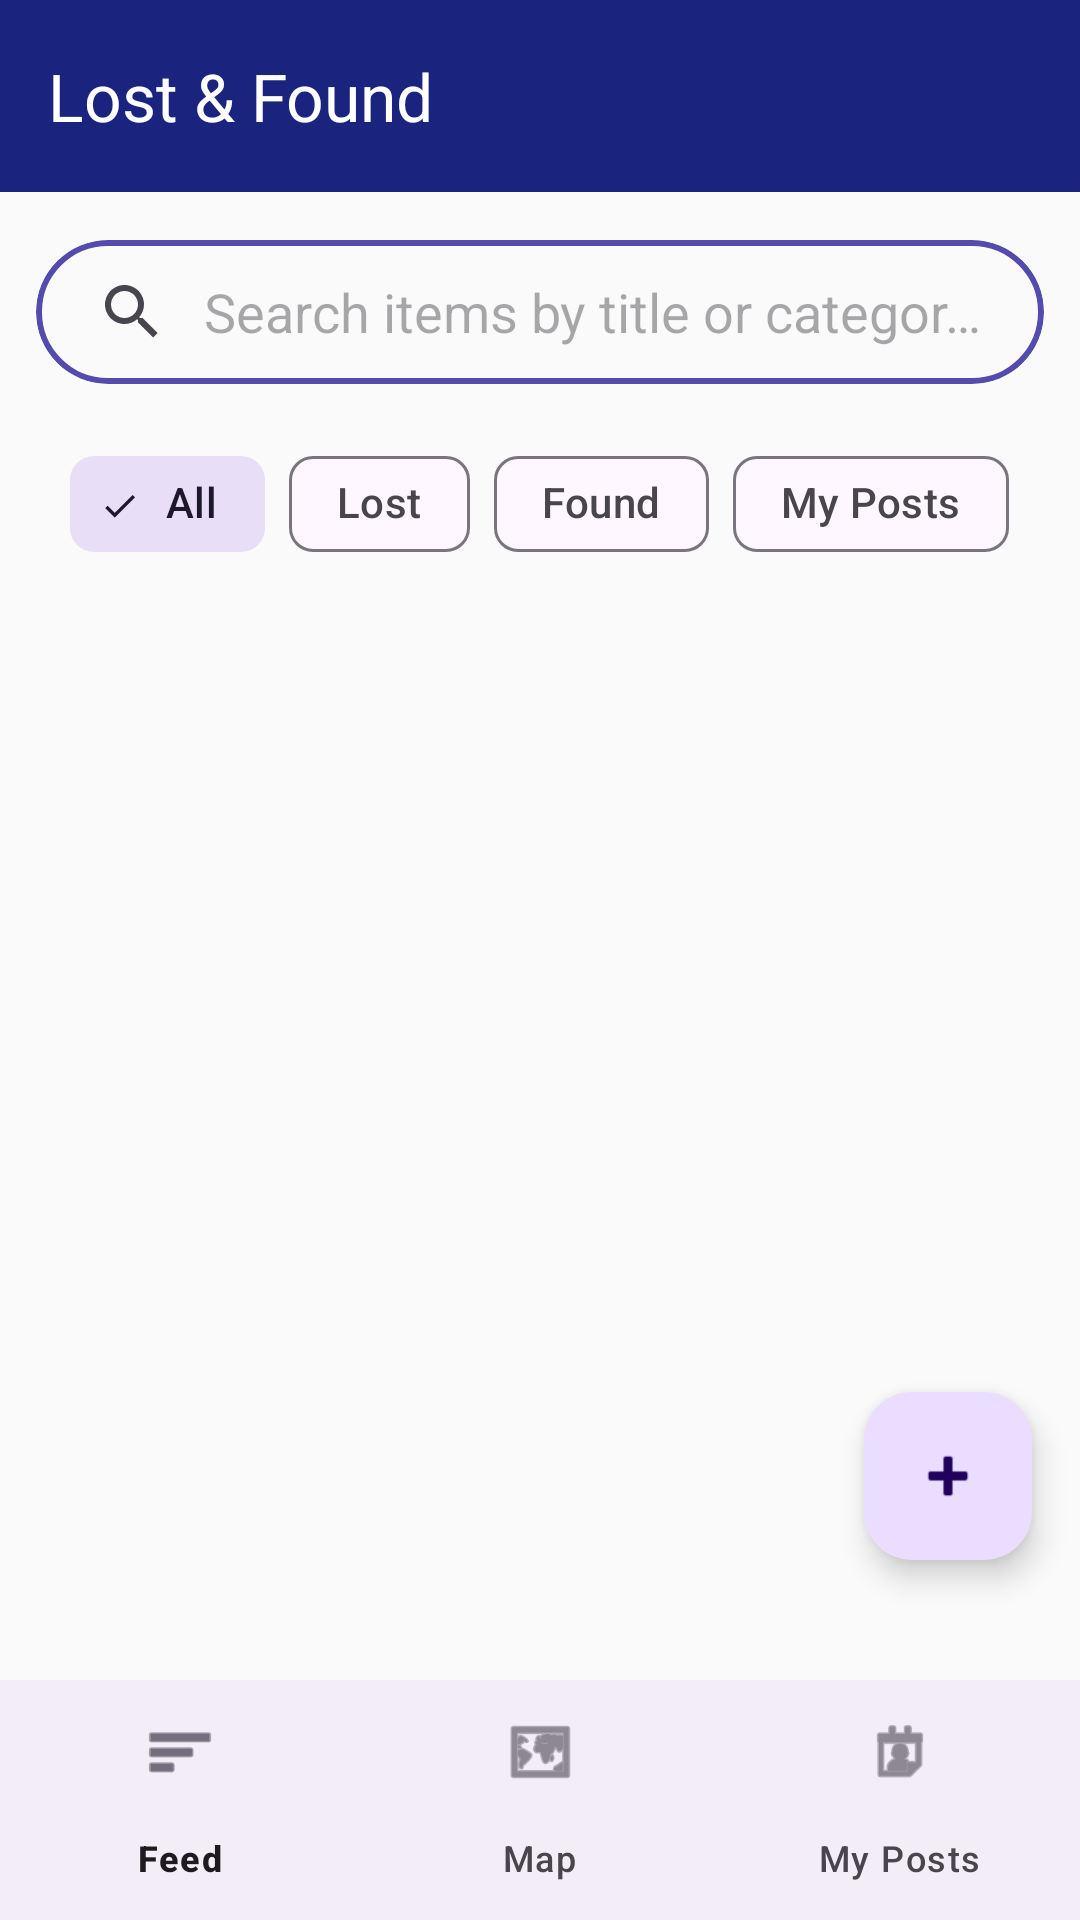

Point at icon controls on the screen. Image size 1080x1920, points as [x,y].
Report Item: [948,1476]
